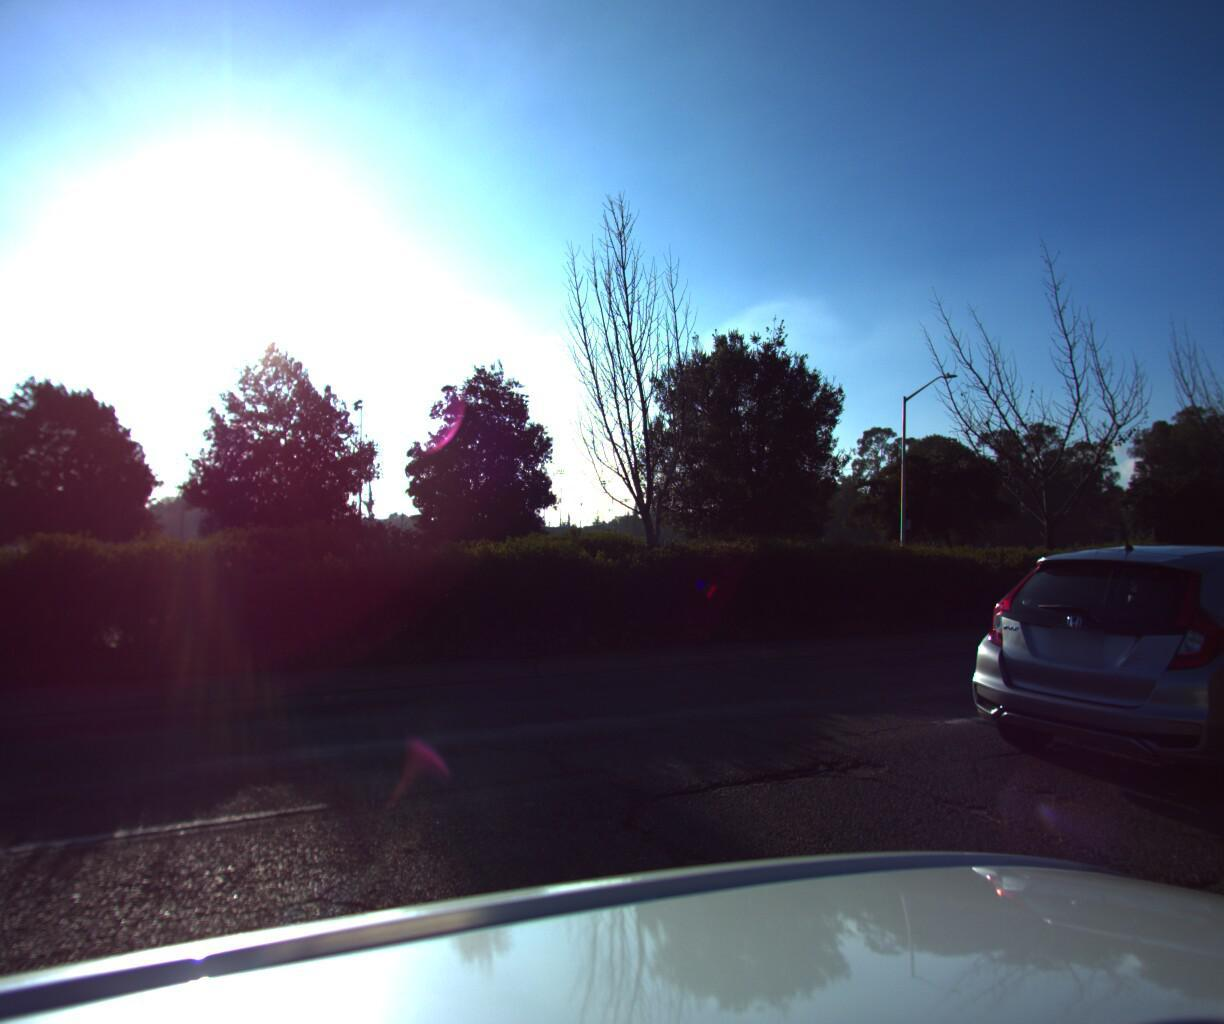car: (923, 541, 1224, 836)
